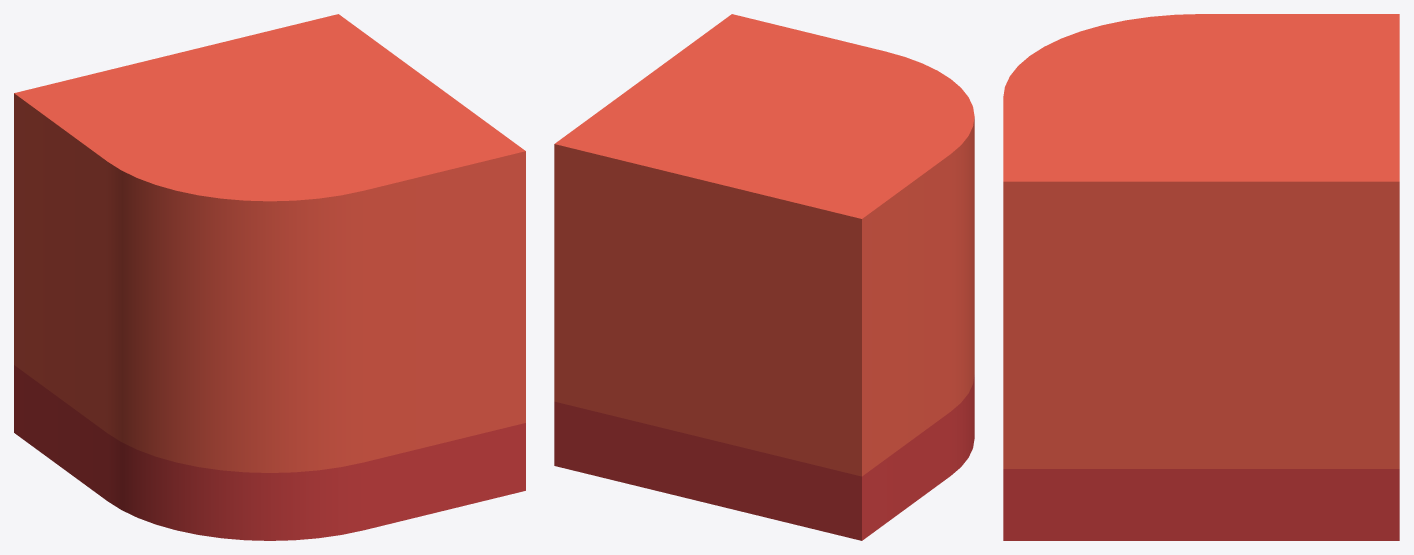
The model's file is block7.obj.
The picture shows the model from 3 angles, left to right: view 1: azimuth 30°, elevation 25°; view 2: azimuth 150°, elevation 25°; view 3: azimuth 270°, elevation 25°; orthographic projection. The views are drawn at different scales.
Visible parts, largest first — view 1: mergedBlocks; view 2: mergedBlocks; view 3: mergedBlocks.
Part boxes in pixels (bbox=[...]): mergedBlocks: bbox=[14, 14, 525, 540]; mergedBlocks: bbox=[554, 14, 974, 540]; mergedBlocks: bbox=[1003, 14, 1399, 540].
Bounding box in the file's own units: 1 × 1 × 1.
